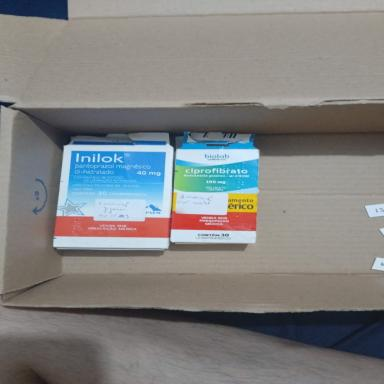Medicamento: (54, 132, 174, 249), (171, 132, 259, 244)
